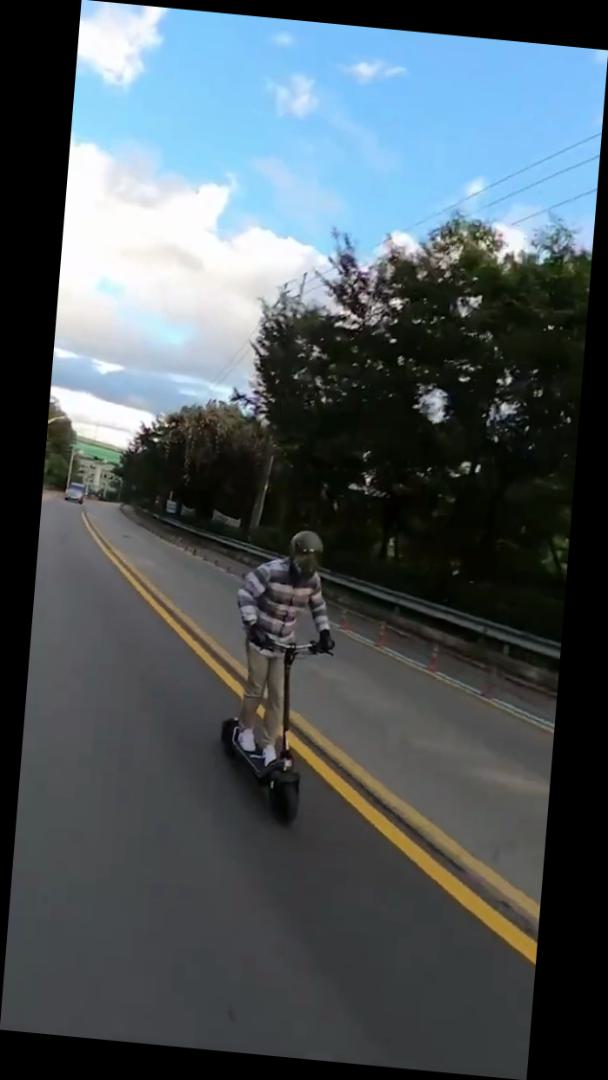helmet: (211, 517, 347, 831)
